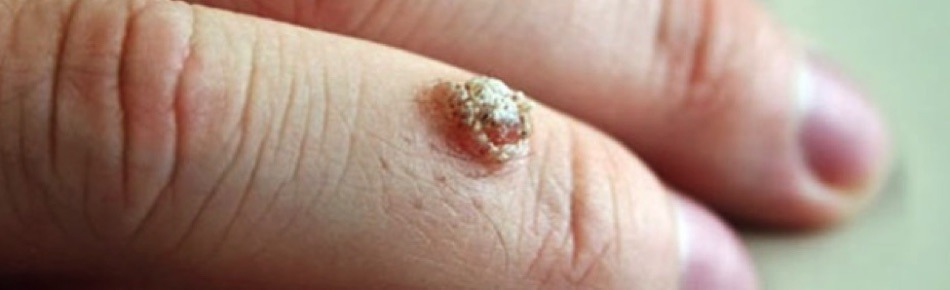Warts: (396, 63, 532, 182)
